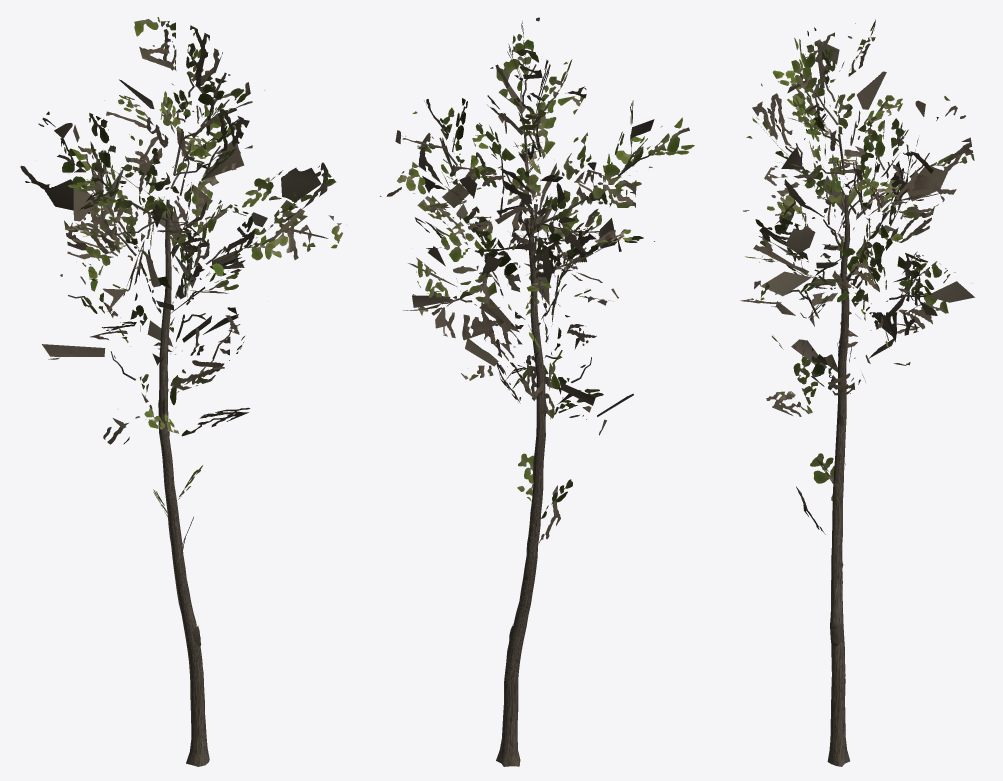
The model's file is SM_BlackAlder_Forest_06_PP_LOD3.gltf.
3 views of the same model, side by side, from view 1: azimuth 30°, elevation 25°; view 2: azimuth 150°, elevation 25°; view 3: azimuth 270°, elevation 25° (orthographic). The views are drawn at different scales.
Parts seen in each view (by area): view 1: SM_BlackAlder_Forest_06_PP; view 2: SM_BlackAlder_Forest_06_PP; view 3: SM_BlackAlder_Forest_06_PP.
Part boxes in pixels (bbox=[...]): SM_BlackAlder_Forest_06_PP: bbox=[20, 17, 342, 766]; SM_BlackAlder_Forest_06_PP: bbox=[380, 17, 694, 766]; SM_BlackAlder_Forest_06_PP: bbox=[740, 19, 974, 766].
Size of the model in its own units: 3.58 by 8.88 by 2.83.
3 materials, 3 textured.
